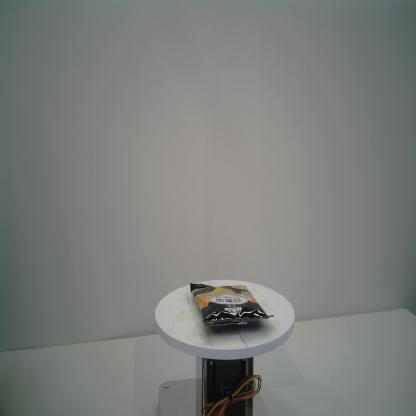Instant Drink: (190, 282, 274, 328)
